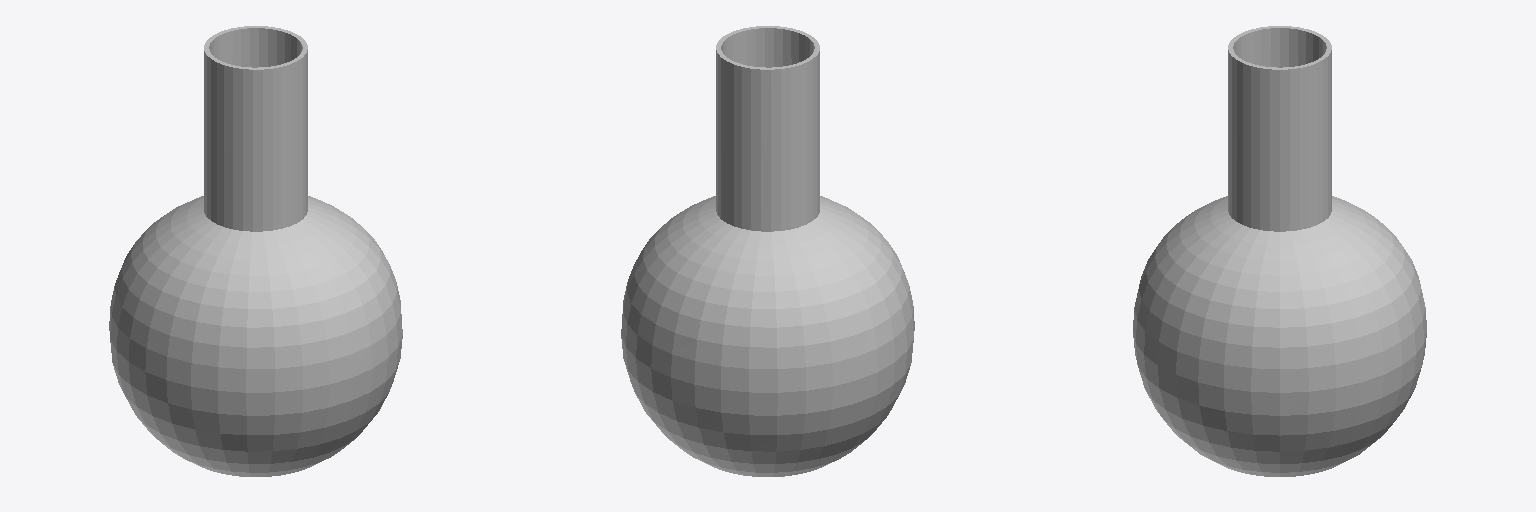
Rendered from beaker.obj.
3 views of the same model, side by side, from view 1: azimuth 30°, elevation 25°; view 2: azimuth 150°, elevation 25°; view 3: azimuth 270°, elevation 25° (orthographic).
Parts seen in each view (by area): view 1: Circle001; view 2: Circle001; view 3: Circle001.
Boxes of the visible parts, box(x1,y1,x2,y2) form: Circle001: box(109, 26, 402, 476); Circle001: box(621, 26, 914, 476); Circle001: box(1133, 26, 1426, 476).
Size of the model in its own units: 0.5656 by 0.8828 by 0.5656.